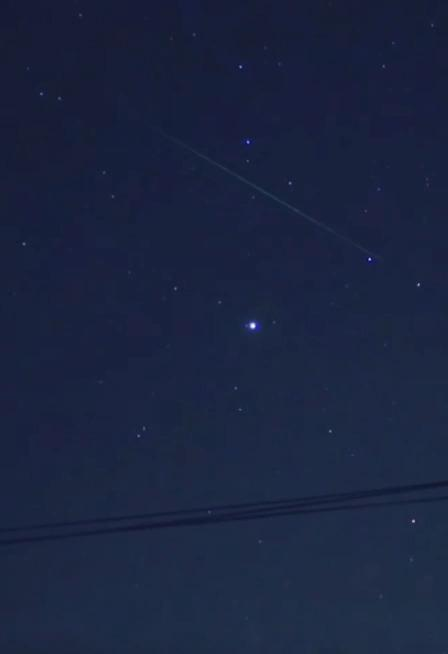meteorite: (119, 117, 326, 236)
